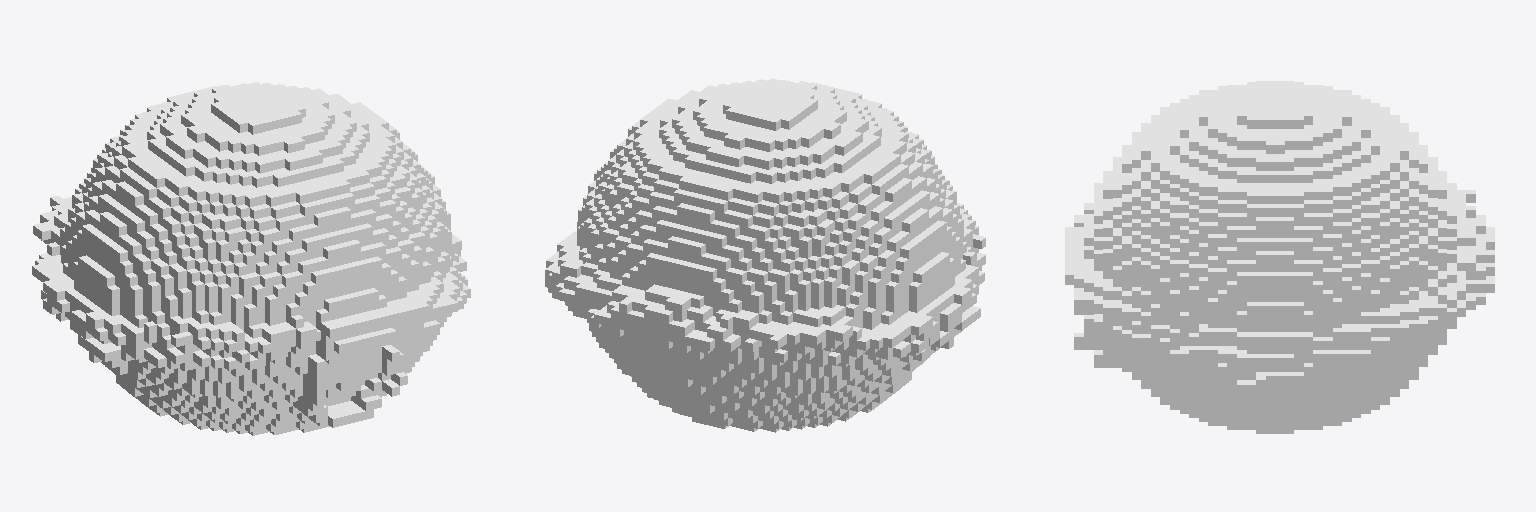
File: ㅠㅜ푸ㅠ.obj
3 views of the same model, side by side, from view 1: azimuth 30°, elevation 25°; view 2: azimuth 150°, elevation 25°; view 3: azimuth 270°, elevation 25° (orthographic).
Parts seen in each view (by area): view 1: object 1; view 2: object 1; view 3: object 1.
Boxes of the visible parts, <box> form: object 1: <box>32,82,470,435</box>; object 1: <box>545,78,985,432</box>; object 1: <box>1065,81,1494,433</box>.
Bounding box in the file's own units: 4.4 × 3.5 × 4.5.